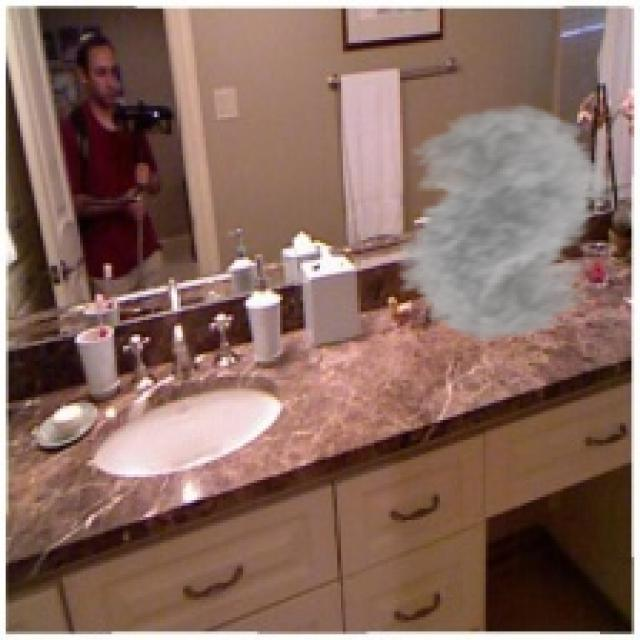Smoke: (368, 103, 632, 343)
